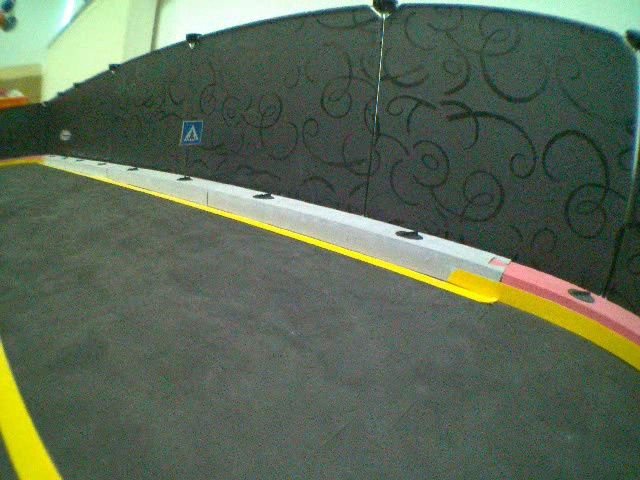crossing: (180, 119, 203, 144)
